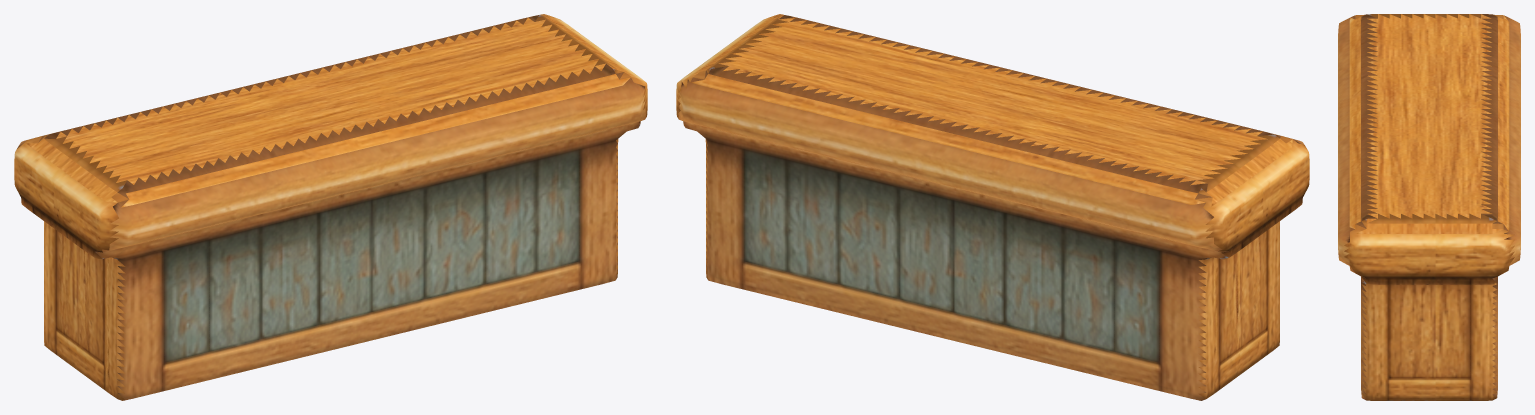
The model's file is bakery-counter.glb.
3 views of the same model, side by side, from view 1: azimuth 30°, elevation 25°; view 2: azimuth 150°, elevation 25°; view 3: azimuth 270°, elevation 25° (orthographic). The views are drawn at different scales.
Bounding box in the file's own units: 2.68 × 1 × 0.906.
1 material, 1 textured.
